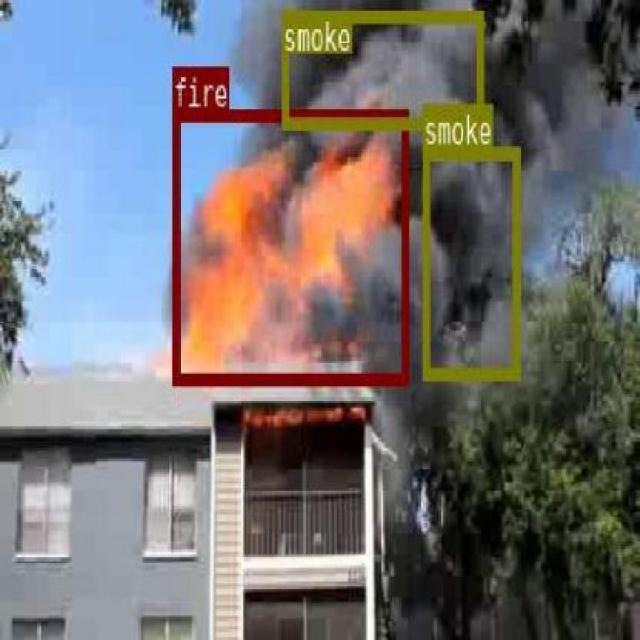fire: (171, 106, 407, 382)
smoke: (281, 9, 482, 128), (420, 144, 518, 378)
